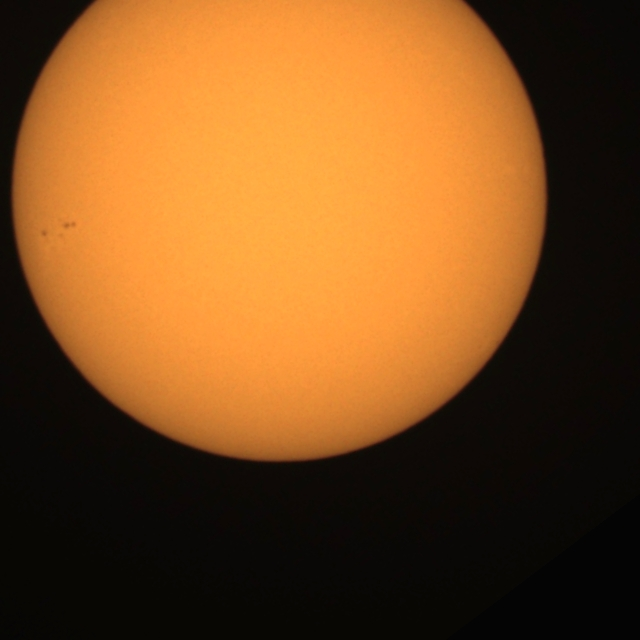sunspot: (41, 220, 77, 238), (61, 220, 78, 232), (40, 228, 49, 238)
